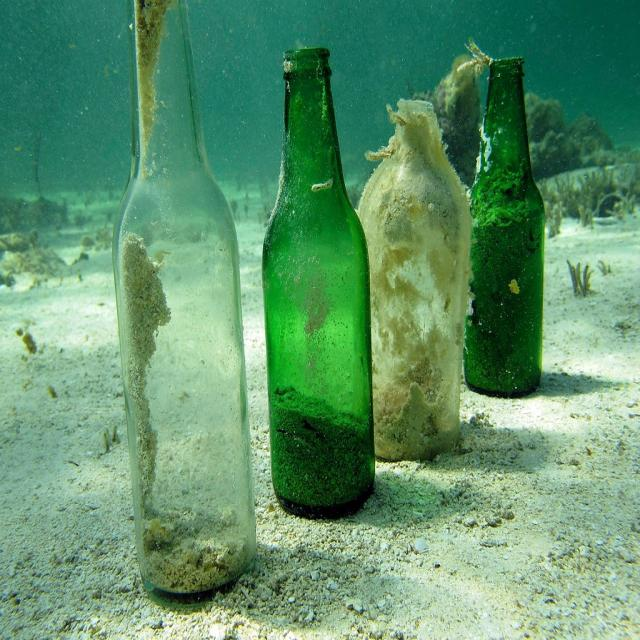Glass: (90, 0, 256, 631), (266, 0, 380, 640), (368, 37, 467, 590), (470, 12, 561, 506)
